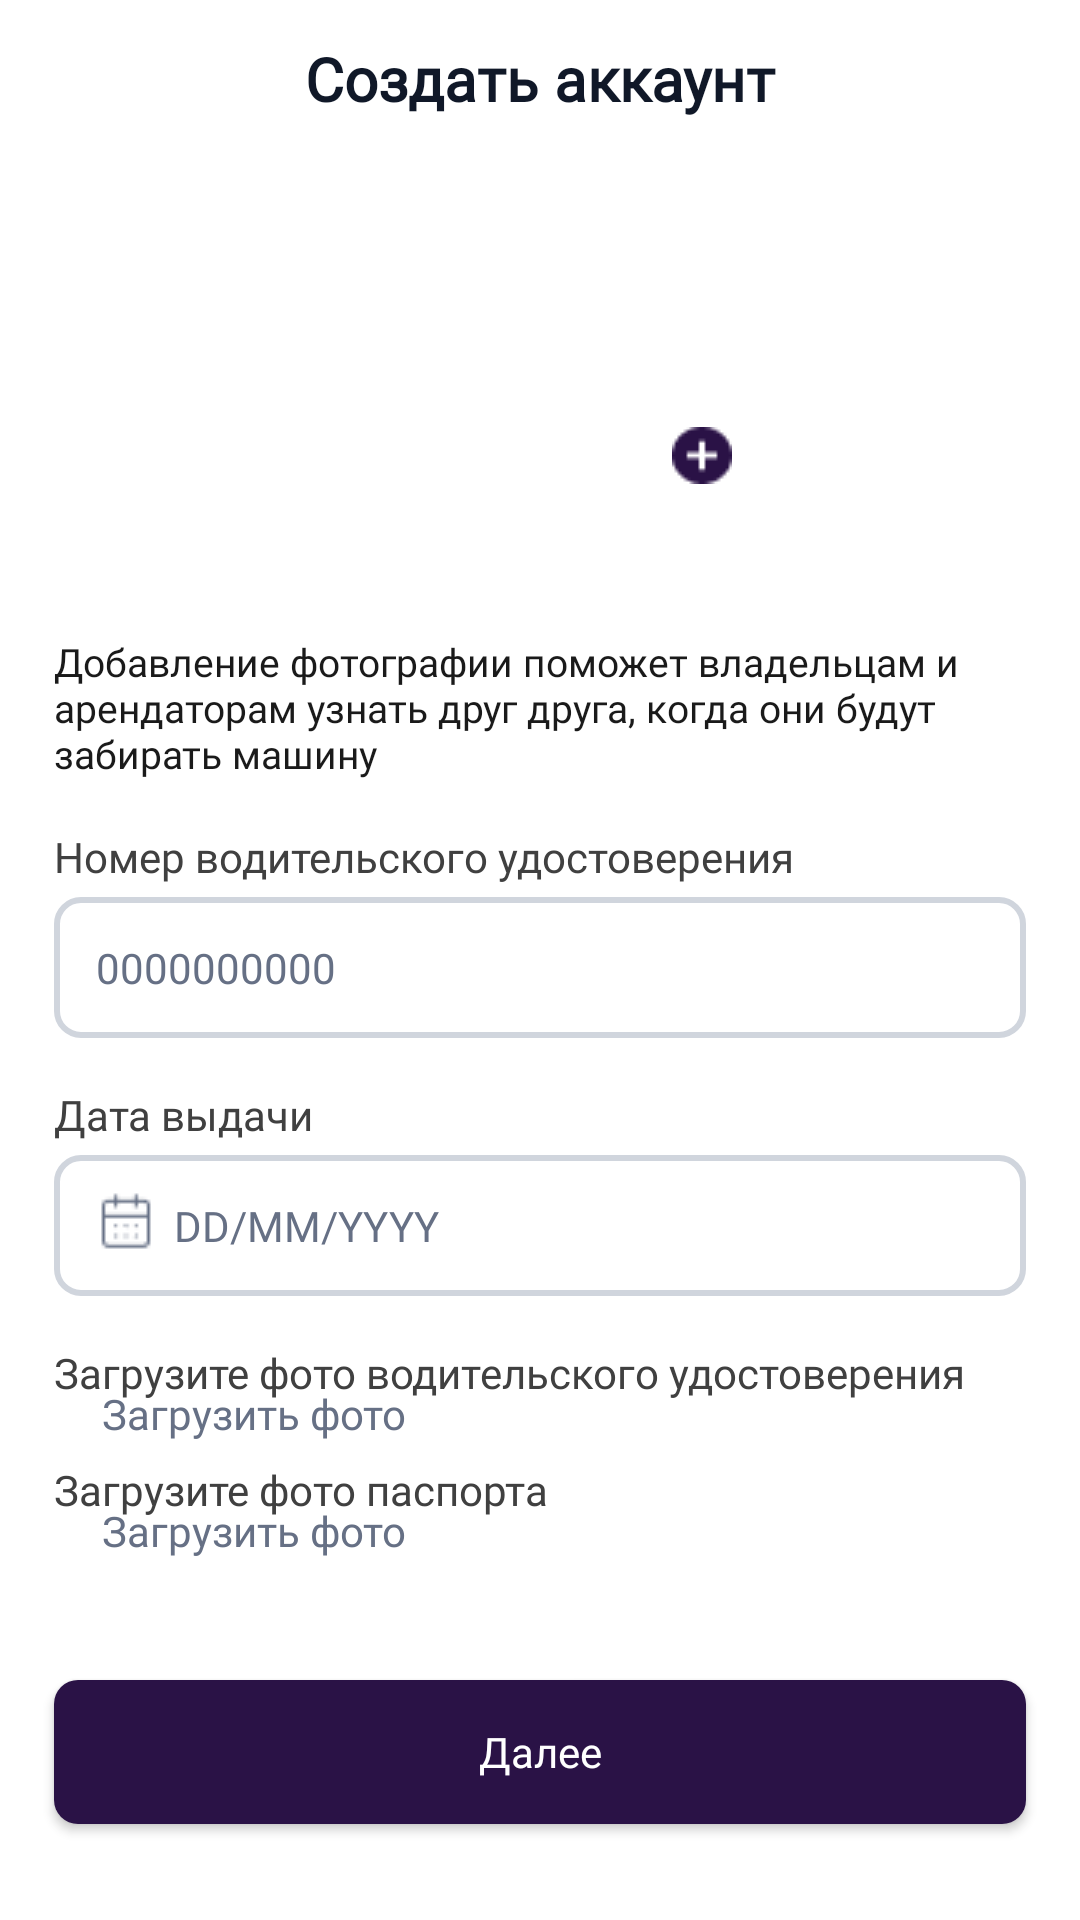

Where icons sit on this 1080 x 1920 app screen, as (x1, y1, x2, y2):
calendar days: (101, 1193, 151, 1249)
plus: (672, 427, 732, 484)
